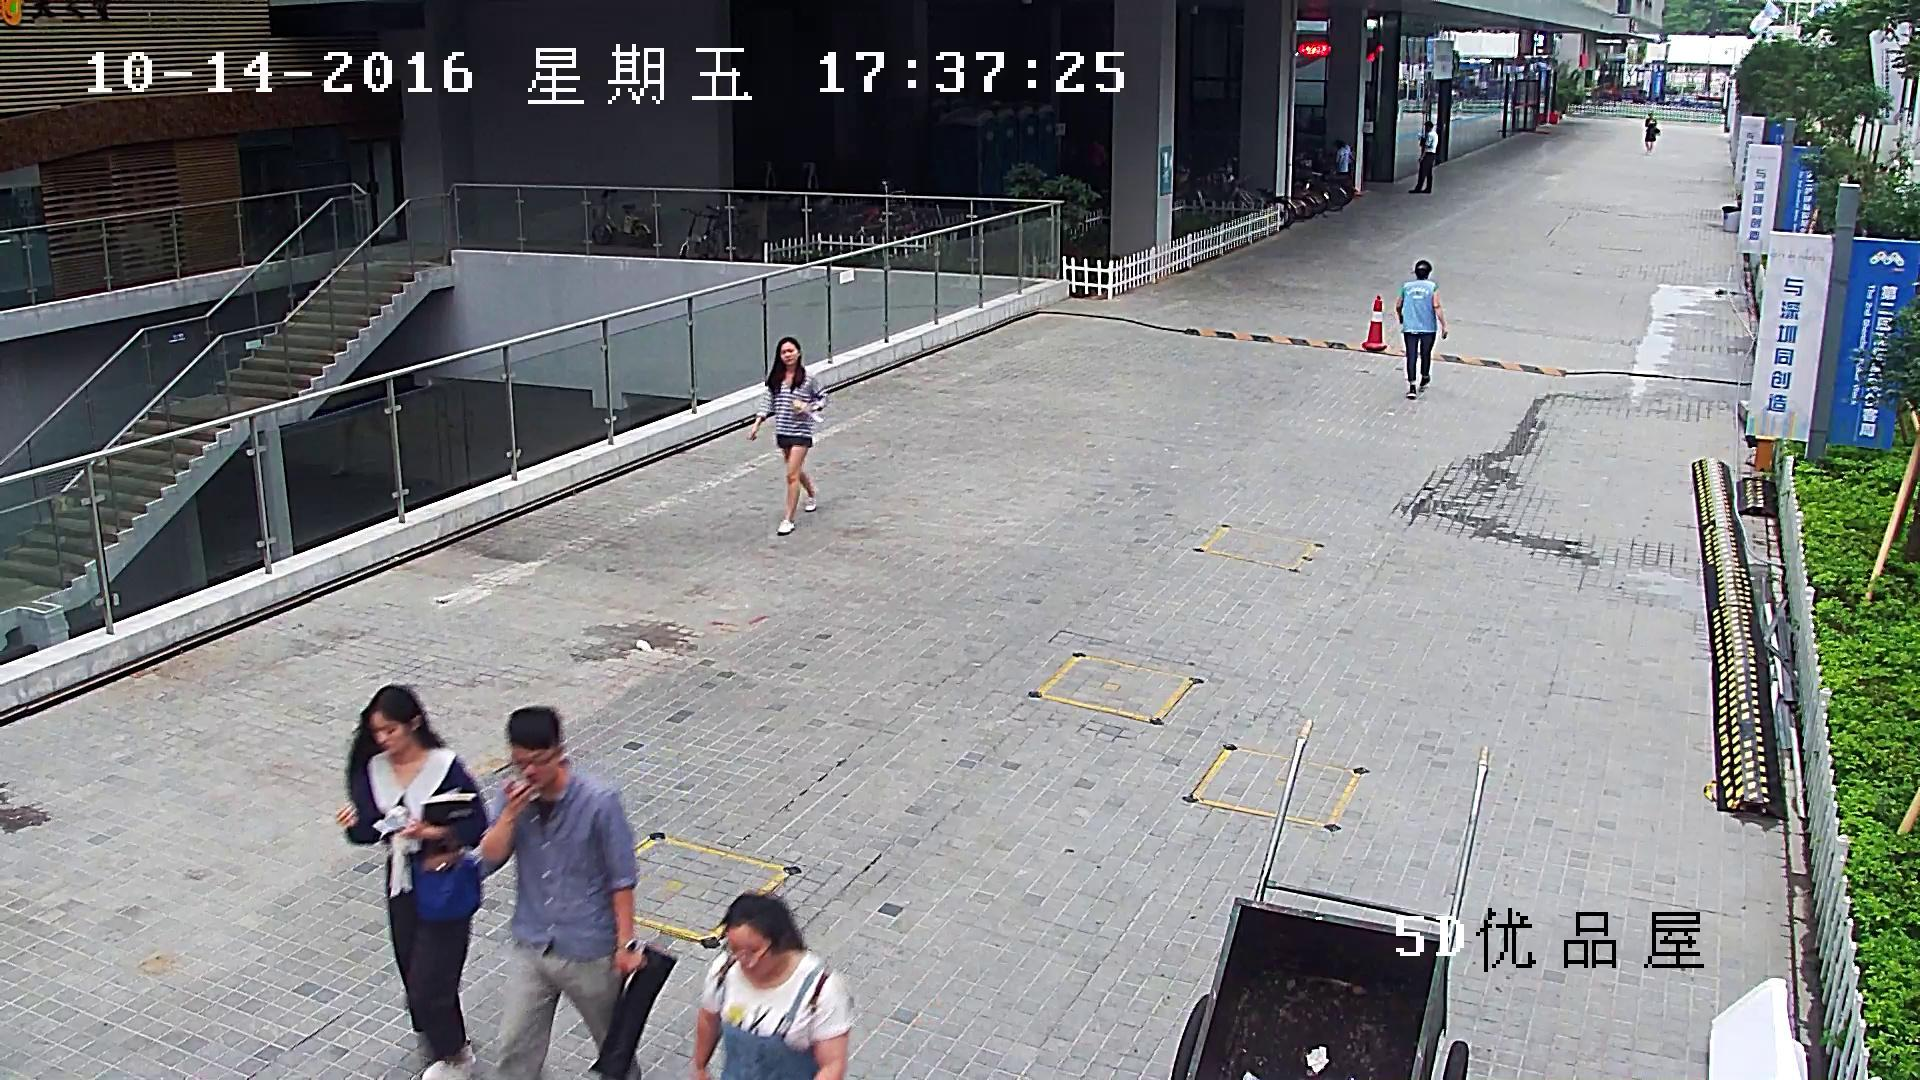person: (478, 705, 678, 1080), (333, 684, 488, 1080), (692, 891, 852, 1080), (747, 335, 828, 535), (1394, 259, 1448, 399), (1408, 121, 1438, 194), (1332, 138, 1354, 178), (1643, 111, 1660, 153)
